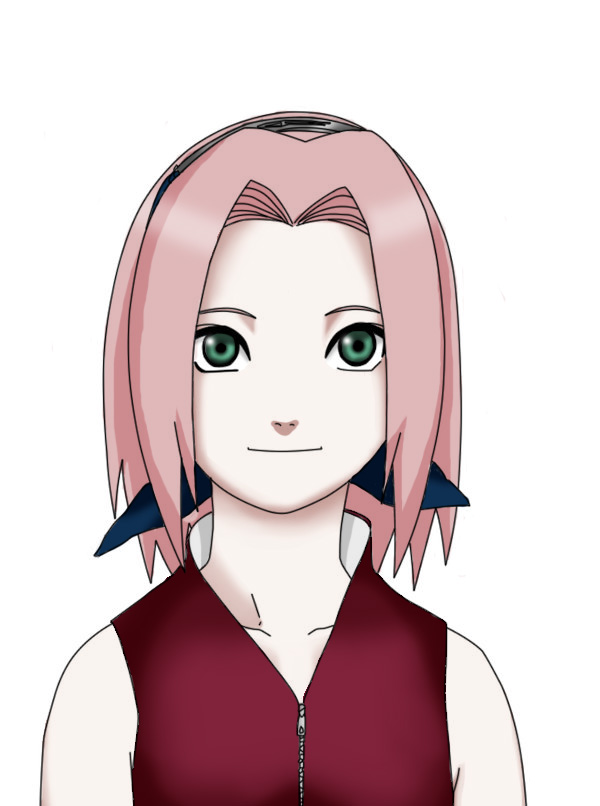sakura: (126, 102, 433, 517)
